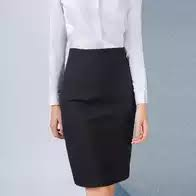F_tailored skirt: (55, 47, 140, 190)
